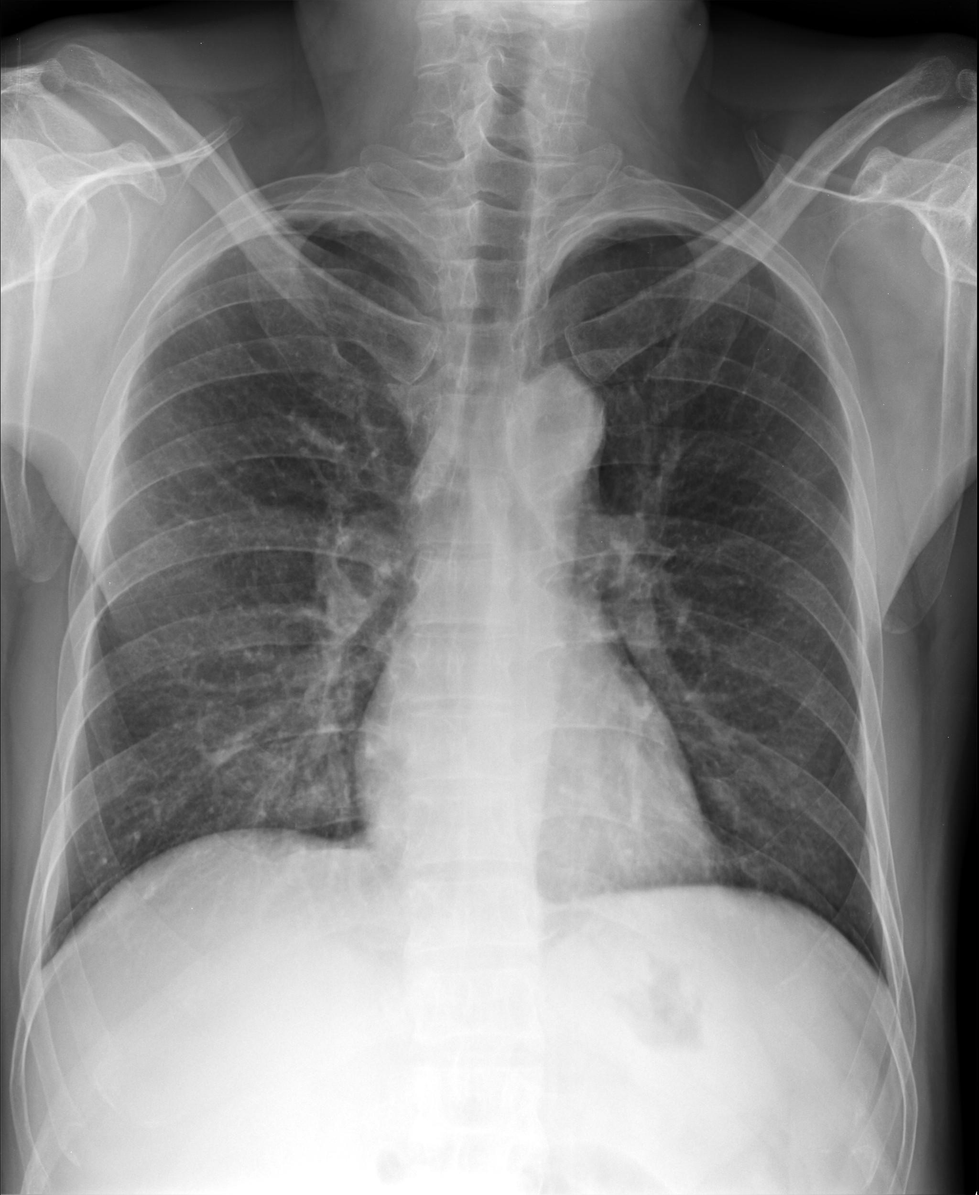Aortic enlargement: (502, 361, 605, 465)
Pleural thickening: (268, 187, 390, 239), (548, 214, 709, 252), (152, 248, 224, 311)
